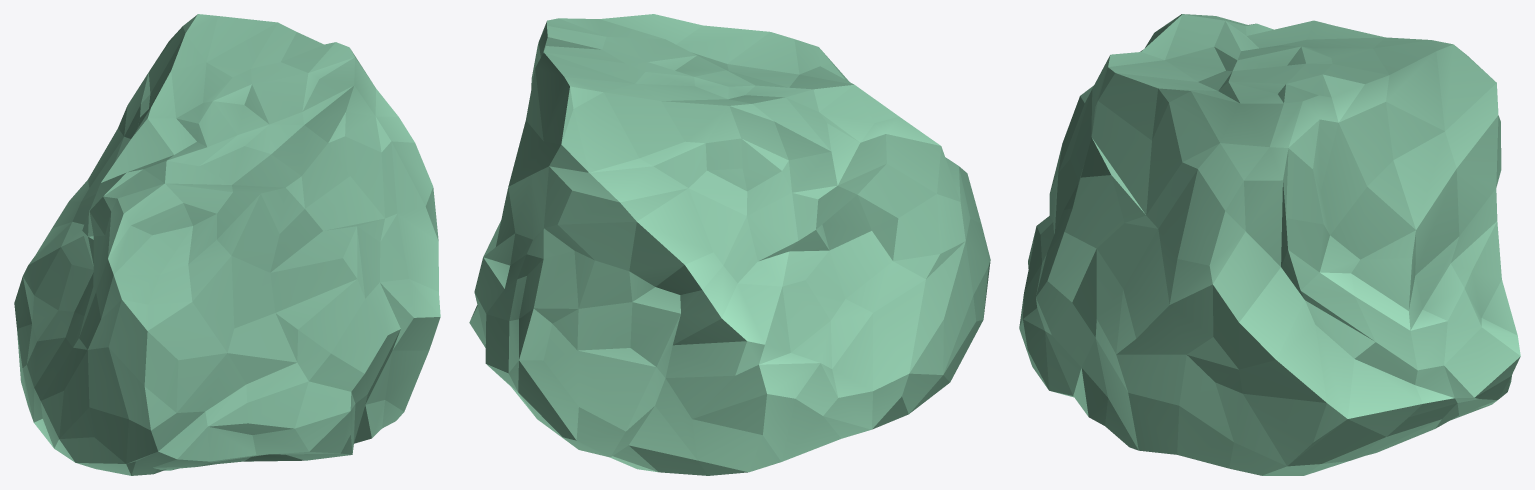
The model's file is snowparticle_anim_3_7_neg1.001.glb.
The picture shows the model from 3 angles, left to right: view 1: azimuth 30°, elevation 25°; view 2: azimuth 150°, elevation 25°; view 3: azimuth 270°, elevation 25°; orthographic projection. The views are drawn at different scales.
Parts seen in each view (by area): view 1: snowparticle_anim_3_7_neg1.001; view 2: snowparticle_anim_3_7_neg1.001; view 3: snowparticle_anim_3_7_neg1.001.
Boxes of the visible parts, x1,y1,x2,y2 form: snowparticle_anim_3_7_neg1.001: [14, 14, 440, 475]; snowparticle_anim_3_7_neg1.001: [469, 14, 990, 475]; snowparticle_anim_3_7_neg1.001: [1019, 14, 1520, 475].
Size of the model in its own units: 682 by 643 by 682.
